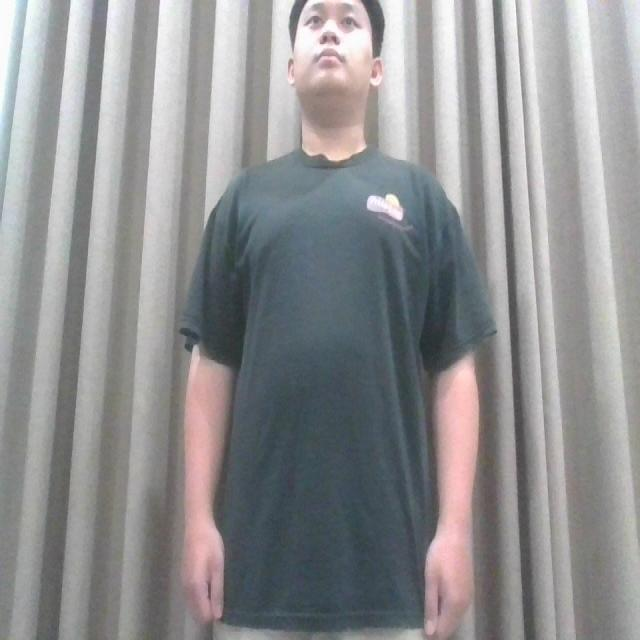T_shirt: (176, 149, 496, 631), (181, 149, 495, 628)
